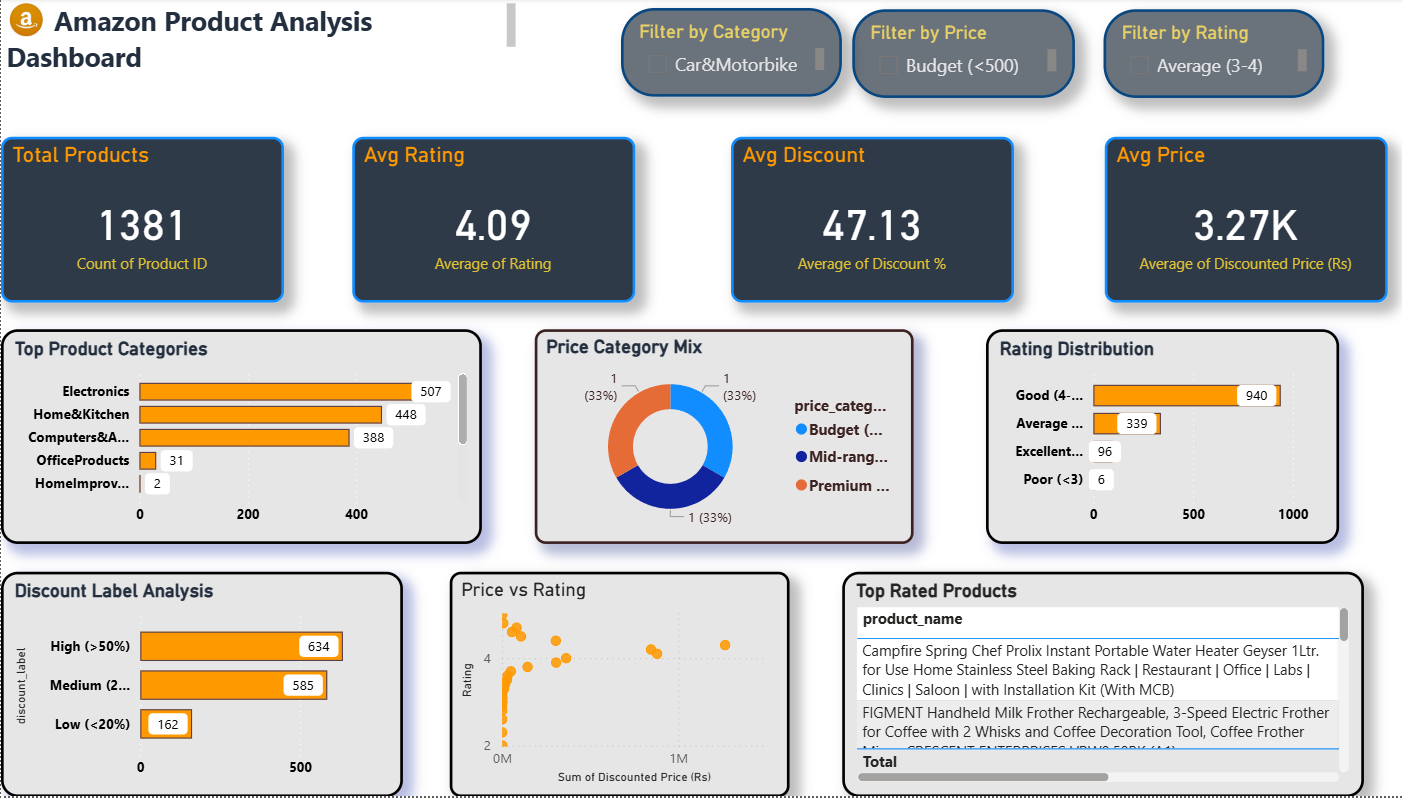

Layout of this report page (visuals, bound fields, positions):
{"tool":"powerbi","page":{"name":"Page 1","canvas":[1280,720],"ordinal":0},"visuals":[{"type":"textbox","box":[0,0,469.3,68.6],"z":0},{"type":"card","title":"Total Products","fields":{"Values":["CountNonNull(Clean Data.Product ID)"]},"box":[0,124.9,255.2,149.6],"z":1},{"type":"card","title":"Avg Rating","fields":{"Values":["Avg(Clean Data.Rating)"]},"box":[317,124.9,255.2,149.6],"z":2},{"type":"card","title":"Avg Discount","fields":{"Values":["Avg(Clean Data.Discount %)"]},"box":[658.7,124.9,255.2,149.6],"z":3},{"type":"card","title":"Avg Price","fields":{"Values":["Avg(Clean Data.Discounted Price (Rs))"]},"box":[994.9,124.9,255.2,149.6],"z":4},{"type":"clusteredBarChart","title":"Top Product Categories","fields":{"Category":["query1_categories.main_category"],"Y":["Sum(query1_categories.total_products)"]},"box":[0,299.1,433.6,193.5],"z":5},{"type":"donutChart","title":"Price Category Mix","fields":{"Category":["query2_price_category.price_category"],"Y":["CountNonNull(query2_price_category.total_products)"]},"box":[481.6,299.1,341.7,193.5],"z":6},{"type":"clusteredBarChart","title":"Rating Distribution","fields":{"Category":["query3_rating.rating_label"],"Y":["Sum(query3_rating.total_products)"]},"box":[887.8,299.1,318.4,193.5],"z":7},{"type":"clusteredBarChart","title":"Discount Label Analysis","fields":{"Category":["query4_discount.discount_label"],"Y":["Sum(query4_discount.total_products)"]},"box":[0,517.3,362.3,203.1],"z":8},{"type":"scatterChart","title":"Price vs Rating","fields":{"X":["Sum(Clean Data.Discounted Price (Rs))"],"Y":["Clean Data.Rating"]},"box":[404.8,517.3,306,203.1],"z":9},{"type":"tableEx","title":"Top Rated Products","fields":{"Values":["query5_top_products.product_name","query5_top_products.main_category","query5_top_products.star Rating","Sum(query5_top_products.discounted_price)"]},"box":[758.8,517.3,470.7,203.1],"z":10},{"type":"slicer","title":"Filter by Category","fields":{"Values":["Clean Data.Main Category"]},"box":[558.5,0,200.3,79.6],"z":11},{"type":"slicer","title":"Filter by Price","fields":{"Values":["Clean Data.Price Category"]},"box":[768.4,0,200.3,79.6],"z":12},{"type":"slicer","title":"Filter by Rating","fields":{"Values":["Clean Data.Rating Label"]},"box":[994.9,0,200.3,79.6],"z":13},{"type":"image","box":[0,0,45.3,39.8],"z":14}]}

Visuals, with their boxes in screenshot pixels (x1, y1, x2, y2), scaled from the page's 1280x720 canvas onto the 1402x798 screenshot:
textbox: crop(0, 0, 514, 76)
"Total Products" card: crop(0, 138, 280, 304)
"Avg Rating" card: crop(347, 138, 627, 304)
"Avg Discount" card: crop(721, 138, 1001, 304)
"Avg Price" card: crop(1090, 138, 1369, 304)
"Top Product Categories" clusteredBarChart: crop(0, 332, 475, 546)
"Price Category Mix" donutChart: crop(528, 332, 902, 546)
"Rating Distribution" clusteredBarChart: crop(972, 332, 1321, 546)
"Discount Label Analysis" clusteredBarChart: crop(0, 573, 397, 797)
"Price vs Rating" scatterChart: crop(443, 573, 779, 797)
"Top Rated Products" tableEx: crop(831, 573, 1347, 797)
"Filter by Category" slicer: crop(612, 0, 831, 88)
"Filter by Price" slicer: crop(842, 0, 1061, 88)
"Filter by Rating" slicer: crop(1090, 0, 1309, 88)
image: crop(0, 0, 50, 44)
